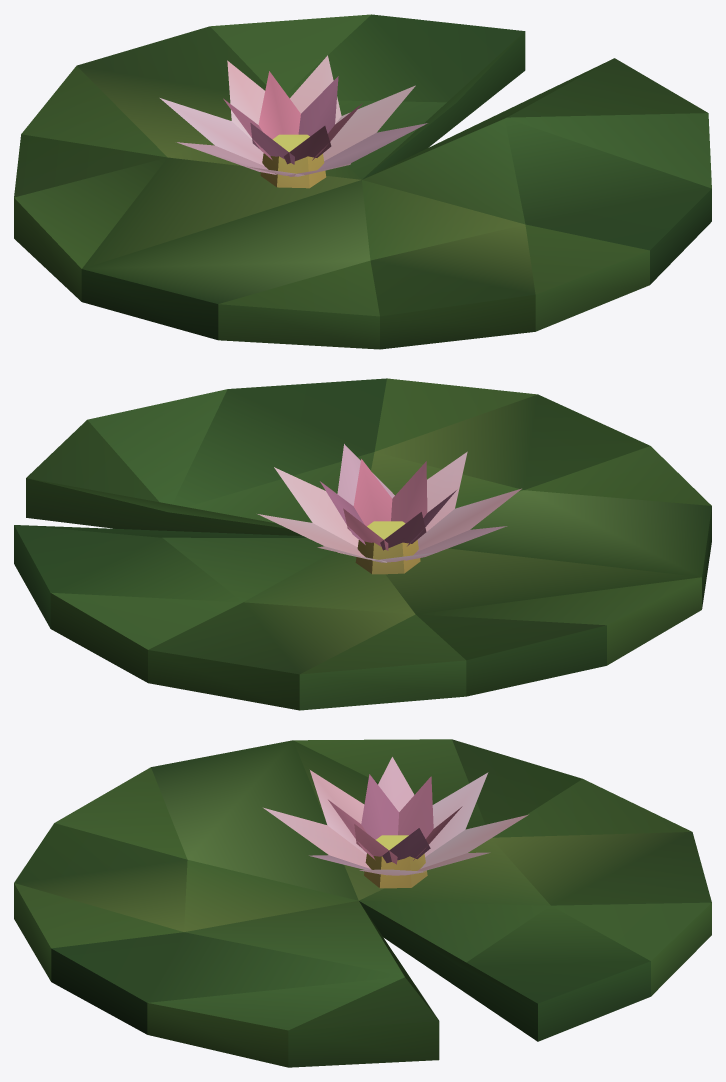
File: lily-pad.low.glb
The picture shows the model from 3 angles, top to bottom: view 1: azimuth 30°, elevation 25°; view 2: azimuth 150°, elevation 25°; view 3: azimuth 270°, elevation 25°; orthographic projection. The views are drawn at different scales.
Visible parts, largest first — view 1: lily-pad; view 2: lily-pad; view 3: lily-pad.
Part boxes in pixels (<box>): lily-pad: <box>14,14,711,349</box>; lily-pad: <box>14,378,711,710</box>; lily-pad: <box>14,739,711,1067</box>.
Size of the model in its own units: 0.7565 by 0.1157 by 0.7555.
